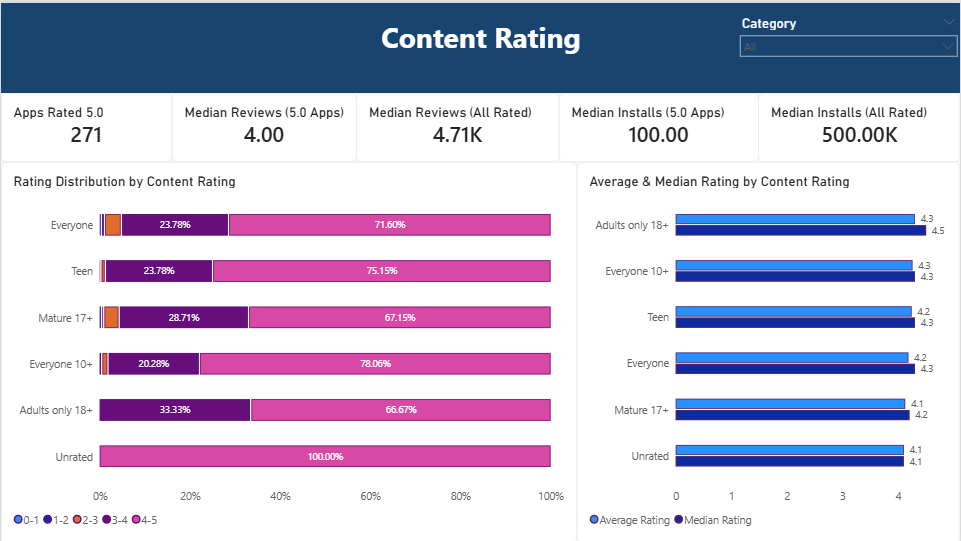

What the dashboard file says about the page in this screenshot:
{"tool":"powerbi","page":{"name":"ContentRating","canvas":[1280,720],"ordinal":2},"visuals":[{"type":"textbox","box":[0,0,1280,120],"z":0},{"type":"hundredPercentStackedBarChart","title":"Rating Distribution by Content Rating","fields":{"Category":["googleplaystore.Content Rating"],"Series":["googleplaystore.Rating_Bucket"],"Y":["googleplaystore.Rated_App_Count"]},"box":[0,212,768,508],"z":1000},{"type":"clusteredBarChart","title":"Average & Median Rating by Content Rating","fields":{"Category":["googleplaystore.Content Rating"],"Y":["googleplaystore.Avg_Rating_Content","googleplaystore.Median Rating"]},"box":[768,212,512,508],"z":2000},{"type":"card","title":"Apps Rated 5.0","fields":{"Values":["googleplaystore.Apps Rated 5.0"]},"box":[0,120,228,92],"z":3000},{"type":"card","title":"Median Reviews (5.0 Apps)","fields":{"Values":["googleplaystore.Median Reviews (5.0 Apps)"]},"box":[228,120,246,92],"z":4000},{"type":"card","title":"Median Reviews (All Rated)","fields":{"Values":["googleplaystore.Median Reviews (All Rated)"]},"box":[474,120,270,92],"z":5000},{"type":"card","title":"Median Installs (5.0 Apps)","fields":{"Values":["googleplaystore.Median Installs (5.0 Apps)"]},"box":[744,120,266,92],"z":6000},{"type":"card","title":"Median Installs (All Rated)","fields":{"Values":["googleplaystore.Median Installs (All Rated)"]},"box":[1010,120,270,92],"z":7000},{"type":"slicer","fields":{"Values":["googleplaystore.Category"]},"box":[980,16,300,90],"z":7001}]}

Visuals, with their boxes in screenshot pixels (x1, y1, x2, y2), scaled from the page's 1280x720 canvas onto the 961x541 screenshot:
textbox: left=0, top=0, right=960, bottom=90
"Rating Distribution by Content Rating" hundredPercentStackedBarChart: left=0, top=159, right=577, bottom=540
"Average & Median Rating by Content Rating" clusteredBarChart: left=577, top=159, right=960, bottom=540
"Apps Rated 5.0" card: left=0, top=90, right=171, bottom=159
"Median Reviews (5.0 Apps)" card: left=171, top=90, right=356, bottom=159
"Median Reviews (All Rated)" card: left=356, top=90, right=559, bottom=159
"Median Installs (5.0 Apps)" card: left=559, top=90, right=758, bottom=159
"Median Installs (All Rated)" card: left=758, top=90, right=960, bottom=159
slicer - googleplaystore.Category: left=736, top=12, right=960, bottom=80
